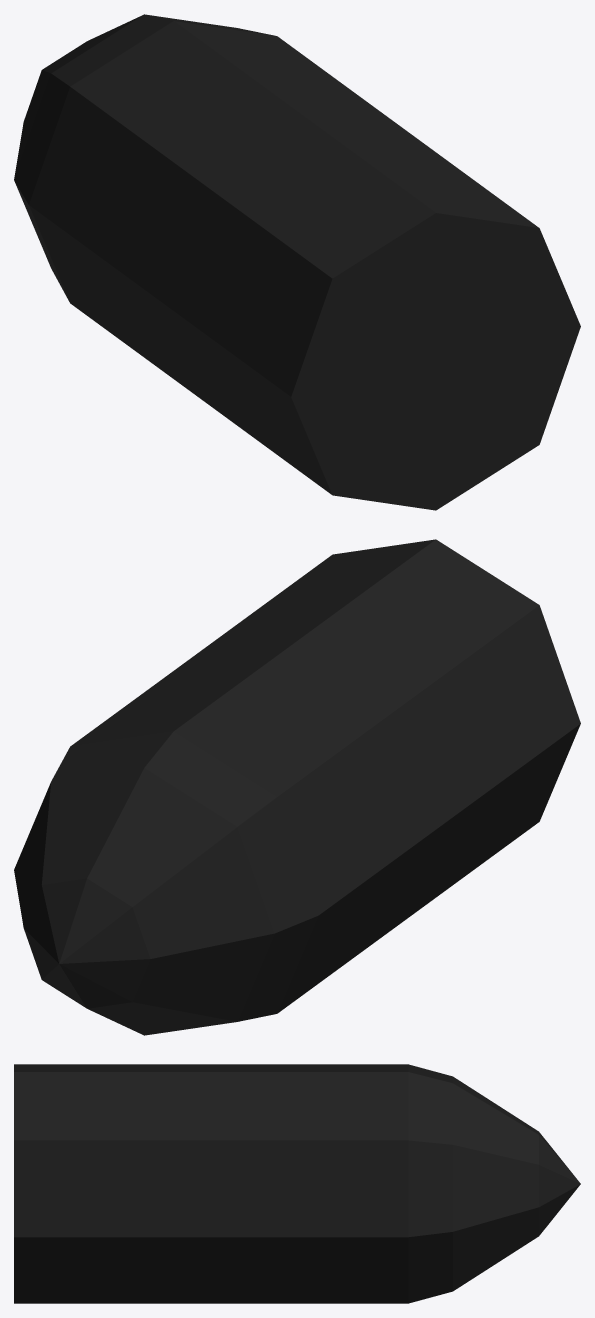
Rendered from bullet.obj.
3 views of the same model, one above another, from view 1: azimuth 30°, elevation 25°; view 2: azimuth 150°, elevation 25°; view 3: azimuth 270°, elevation 25° (orthographic). The views are drawn at different scales.
Parts seen in each view (by area): view 1: Normalmapper.001_Cube.002; view 2: Normalmapper.001_Cube.002; view 3: Normalmapper.001_Cube.002.
Part boxes in pixels (x1=…): Normalmapper.001_Cube.002: x1=14, y1=14, x2=580, y2=510; Normalmapper.001_Cube.002: x1=14, y1=539, x2=580, y2=1035; Normalmapper.001_Cube.002: x1=14, y1=1064, x2=580, y2=1303.
Size of the model in its own units: 0.952 by 0.9342 by 2.14.
1 material, 1 textured.
